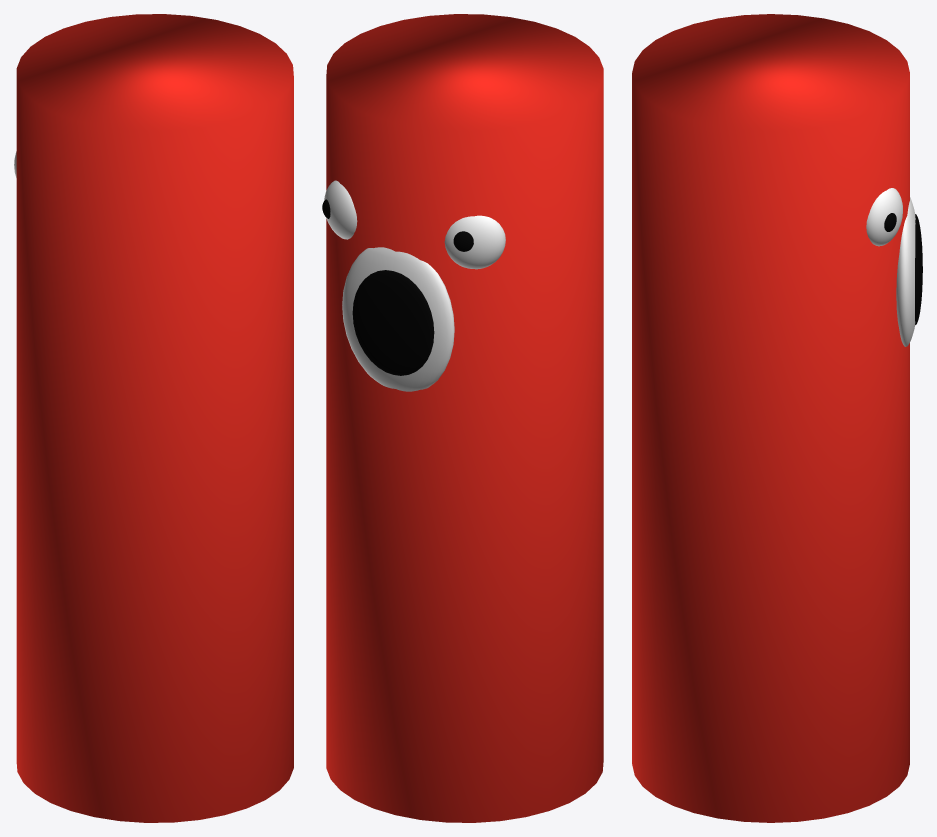
File: choomah-hit.glb
3 views of the same model, side by side, from view 1: azimuth 30°, elevation 25°; view 2: azimuth 150°, elevation 25°; view 3: azimuth 270°, elevation 25° (orthographic).
Parts seen in each view (by area): view 1: Cylinder; view 2: Cylinder, Sphere.005, Sphere.002, Sphere.001, Sphere; view 3: Cylinder, Sphere.002, Sphere, Sphere.005.
Boxes of the visible parts, box(x1,y1,x2,y2) form: Cylinder: box(16, 14, 293, 822); Cylinder: box(326, 14, 603, 822); Sphere.005: box(352, 270, 434, 375); Sphere.002: box(342, 247, 454, 391); Sphere.001: box(444, 215, 505, 269); Sphere: box(324, 180, 357, 239); Cylinder: box(632, 14, 909, 822); Sphere.002: box(896, 197, 915, 346); Sphere: box(866, 188, 902, 246); Sphere.005: box(915, 214, 922, 324).
Bounding box in the file's own units: 1.45 × 3.99 × 1.52.
